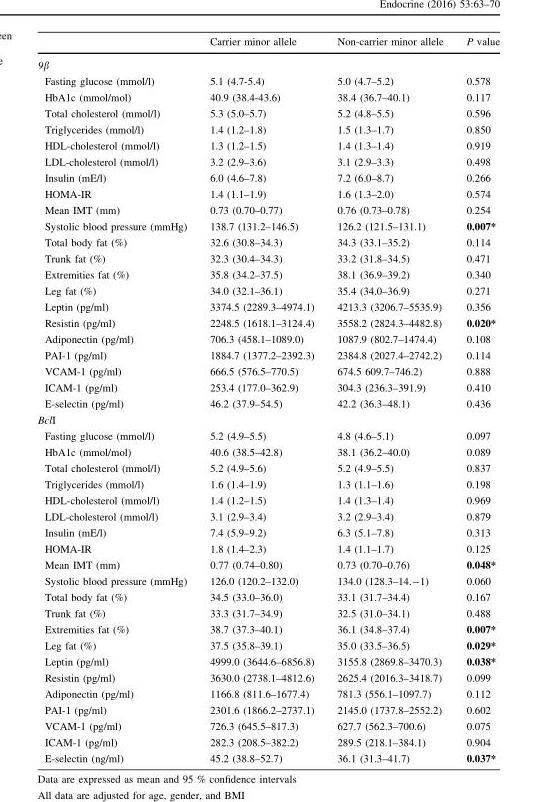table: (36, 36, 499, 763)
table column: (36, 36, 197, 763), (325, 36, 454, 763), (197, 36, 325, 763), (454, 36, 499, 763)
table column header: (36, 36, 499, 52)
table projected row header: (36, 52, 499, 73), (36, 411, 499, 427)
table row: (36, 52, 499, 73), (36, 169, 499, 186), (36, 314, 499, 331), (36, 427, 499, 444), (36, 556, 499, 573), (36, 685, 499, 702), (36, 36, 499, 52), (36, 73, 499, 89), (36, 89, 499, 105), (36, 105, 499, 121), (36, 121, 499, 137), (36, 137, 499, 153), (36, 153, 499, 169), (36, 186, 499, 202), (36, 202, 499, 218), (36, 218, 499, 234), (36, 234, 499, 250), (36, 250, 499, 266), (36, 266, 499, 282), (36, 282, 499, 298), (36, 298, 499, 314), (36, 331, 499, 347), (36, 347, 499, 363), (36, 363, 499, 379), (36, 379, 499, 395), (36, 395, 499, 411), (36, 411, 499, 427), (36, 444, 499, 460), (36, 460, 499, 476), (36, 476, 499, 492), (36, 492, 499, 508), (36, 508, 499, 524), (36, 524, 499, 540), (36, 540, 499, 556), (36, 573, 499, 589), (36, 589, 499, 605), (36, 605, 499, 621), (36, 621, 499, 637), (36, 637, 499, 653), (36, 653, 499, 669), (36, 669, 499, 685), (36, 702, 499, 718), (36, 718, 499, 734), (36, 734, 499, 750), (36, 750, 499, 763)
